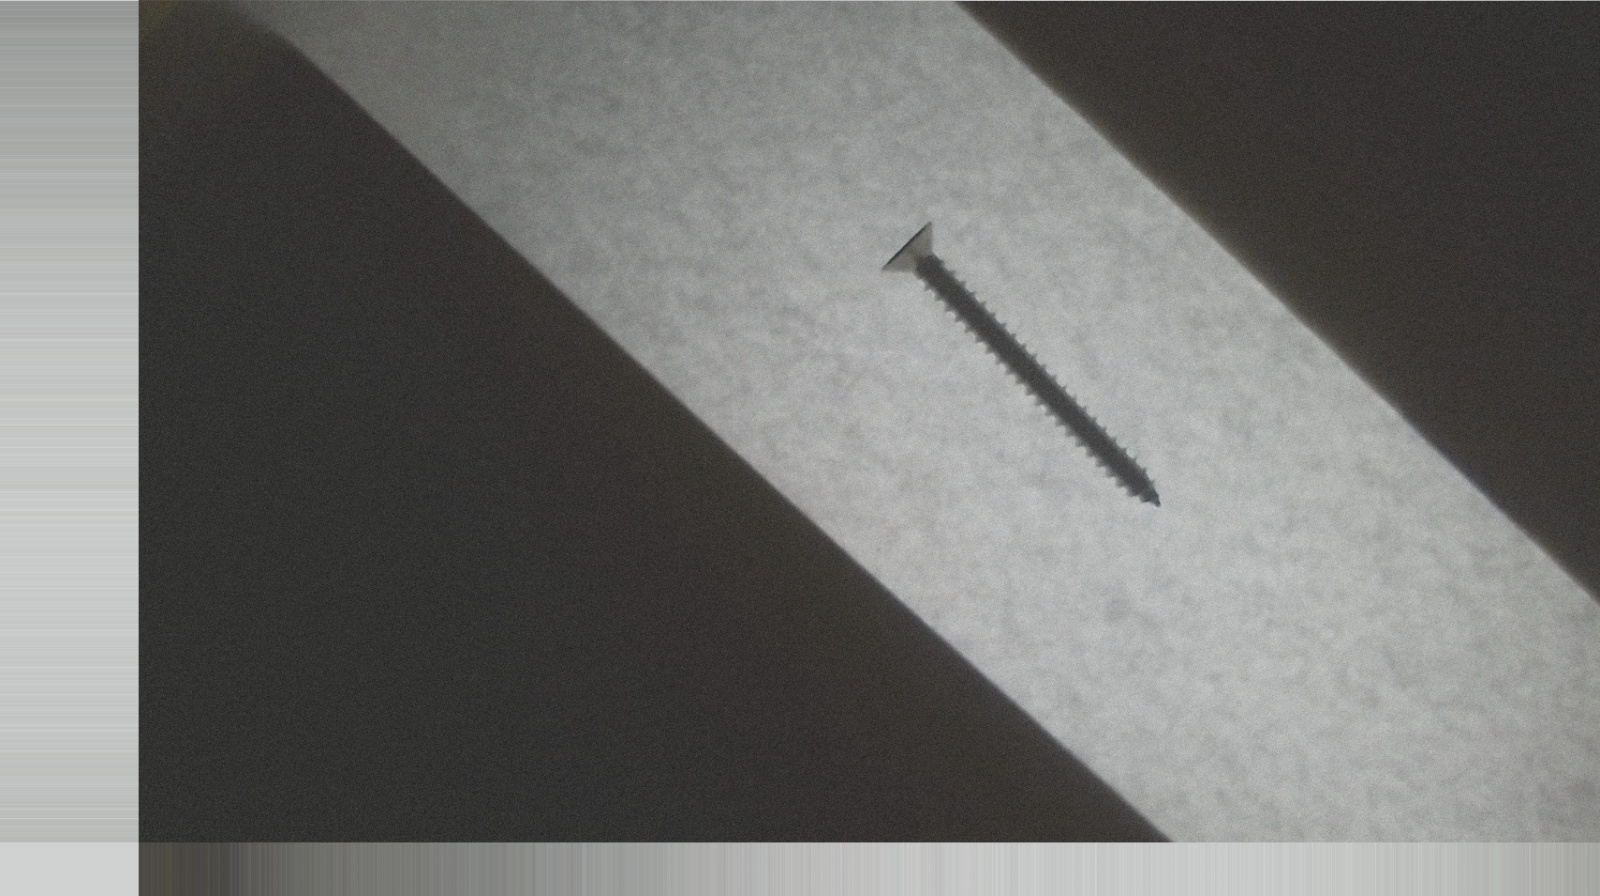S002: (848, 197, 1220, 533)
